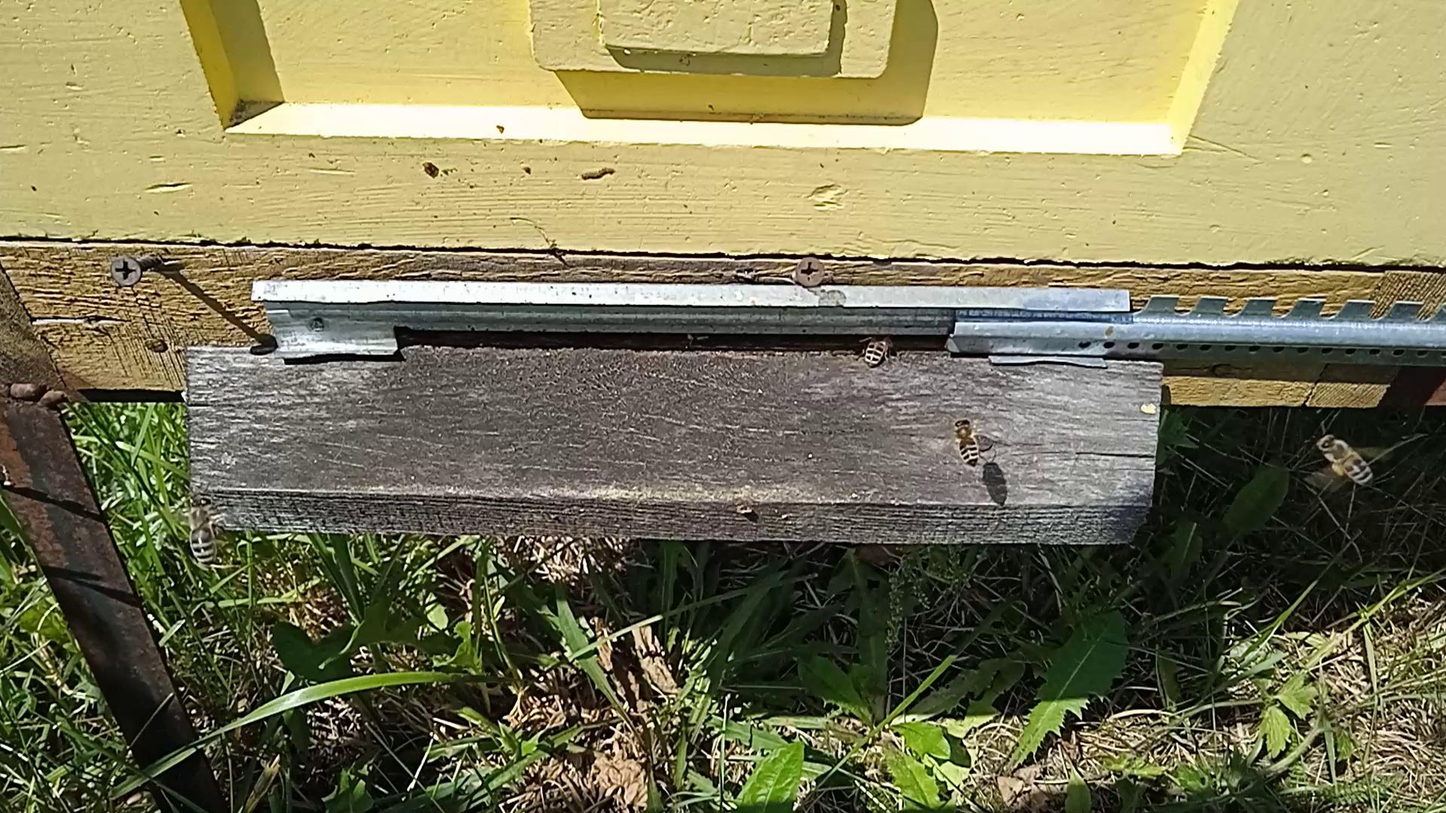worker-bee: (1316, 433, 1375, 487), (187, 494, 221, 568), (951, 416, 983, 466), (861, 335, 894, 367)
